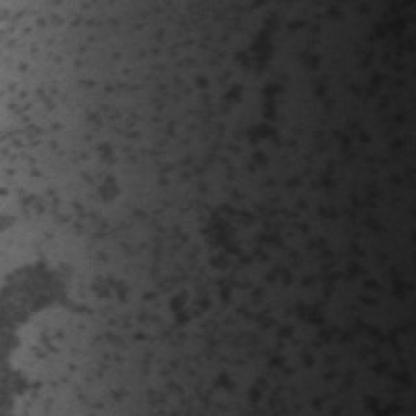pitted_surface: (0, 2, 399, 382), (0, 250, 85, 404)
